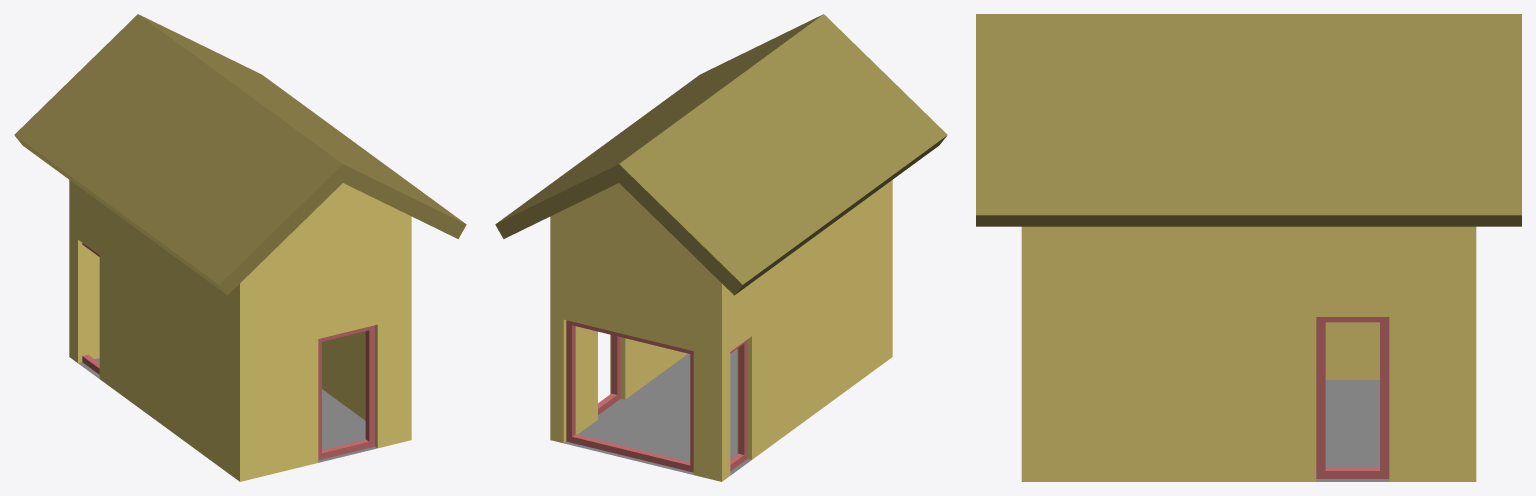
Rendered from result.glb.
3 renders of one model, left to right at view 1: azimuth 30°, elevation 25°; view 2: azimuth 150°, elevation 25°; view 3: azimuth 270°, elevation 25°, orthographic. The views are drawn at different scales.
Visible parts, largest first — view 1: 6e46f214-f123-4346-8f27-36ee009dd494__undefined, 79847733-f3ce-4c97-bd88-06f2174b96aa__undefined (×2), 9e76c3c3-af14-4ef8-8e48-1a824a584f0a__Box, 6093843f-2706-4c38-87d4-6cd5087d4314__Plane_6; view 2: 6e46f214-f123-4346-8f27-36ee009dd494__undefined, 79847733-f3ce-4c97-bd88-06f2174b96aa__undefined (×2), 6093843f-2706-4c38-87d4-6cd5087d4314__Plane_6, 7a1ebbea-6dc2-4ea8-9299-530c3f45a63e__Box_9, fb1396ab-254a-4526-a2c0-5ff5c301fe52__Box_12, c15b5537-002b-4f3f-8c19-1e02bc4aa0bb__Box_15; view 3: 79847733-f3ce-4c97-bd88-06f2174b96aa__undefined, 6e46f214-f123-4346-8f27-36ee009dd494__undefined, 6093843f-2706-4c38-87d4-6cd5087d4314__Plane_6, c15b5537-002b-4f3f-8c19-1e02bc4aa0bb__Box_15.
Boxes of the visible parts, <box> form: 6e46f214-f123-4346-8f27-36ee009dd494__undefined: <box>69,180,411,481</box>; 79847733-f3ce-4c97-bd88-06f2174b96aa__undefined (×2): <box>14,14,466,295</box>; 9e76c3c3-af14-4ef8-8e48-1a824a584f0a__Box: <box>318,325,374,460</box>; 6093843f-2706-4c38-87d4-6cd5087d4314__Plane_6: <box>78,358,377,462</box>; 6e46f214-f123-4346-8f27-36ee009dd494__undefined: <box>550,180,892,481</box>; 79847733-f3ce-4c97-bd88-06f2174b96aa__undefined (×2): <box>495,14,947,295</box>; 6093843f-2706-4c38-87d4-6cd5087d4314__Plane_6: <box>564,349,751,475</box>; 7a1ebbea-6dc2-4ea8-9299-530c3f45a63e__Box_9: <box>566,320,693,472</box>; fb1396ab-254a-4526-a2c0-5ff5c301fe52__Box_12: <box>730,339,747,470</box>; c15b5537-002b-4f3f-8c19-1e02bc4aa0bb__Box_15: <box>598,335,620,414</box>; 79847733-f3ce-4c97-bd88-06f2174b96aa__undefined: <box>976,14,1521,226</box>; 6e46f214-f123-4346-8f27-36ee009dd494__undefined: <box>1021,226,1476,481</box>; 6093843f-2706-4c38-87d4-6cd5087d4314__Plane_6: <box>1316,380,1389,481</box>; c15b5537-002b-4f3f-8c19-1e02bc4aa0bb__Box_15: <box>1316,317,1389,478</box>.
Bounding box in the file's own units: 419 × 500 × 600.
